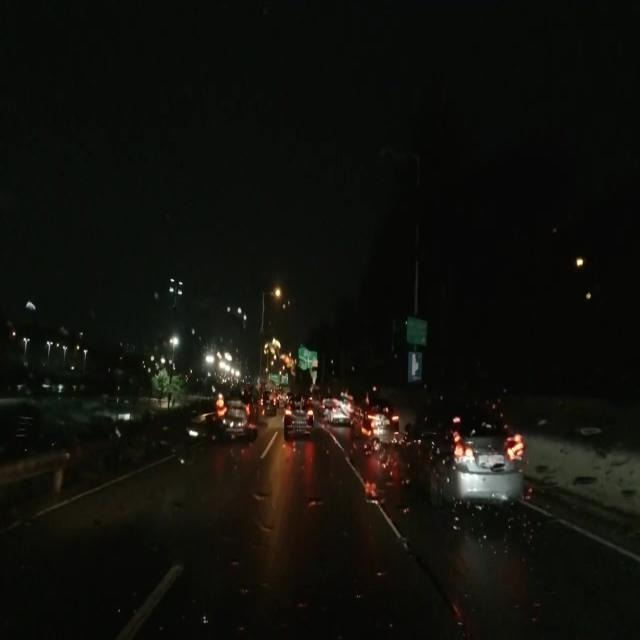Car: (403, 404, 522, 519), (351, 404, 397, 451), (225, 387, 256, 436), (282, 396, 308, 436)
